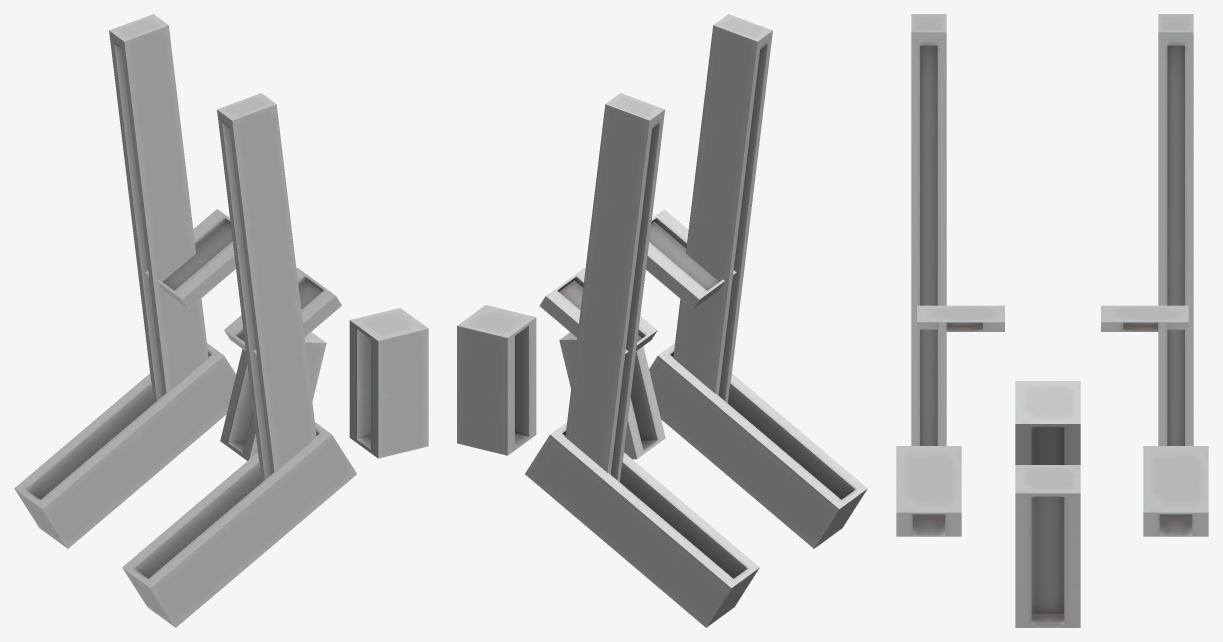
File: Mat_SteelFrame__2.fbx
The picture shows the model from 3 angles, left to right: view 1: azimuth 30°, elevation 25°; view 2: azimuth 150°, elevation 25°; view 3: azimuth 270°, elevation 25°; orthographic projection. The views are drawn at different scales.
Visible parts, largest first — view 1: Mat_SteelFrame_01; view 2: Mat_SteelFrame_01; view 3: Mat_SteelFrame_01.
Boxes of the visible parts, x1=… form: Mat_SteelFrame_01: x1=14, y1=14, x2=428, y2=627; Mat_SteelFrame_01: x1=457, y1=14, x2=867, y2=627; Mat_SteelFrame_01: x1=896, y1=14, x2=1208, y2=627.
Size of the model in its own units: 1.41 by 2.01 by 1.01.
1 material, 1 textured.
